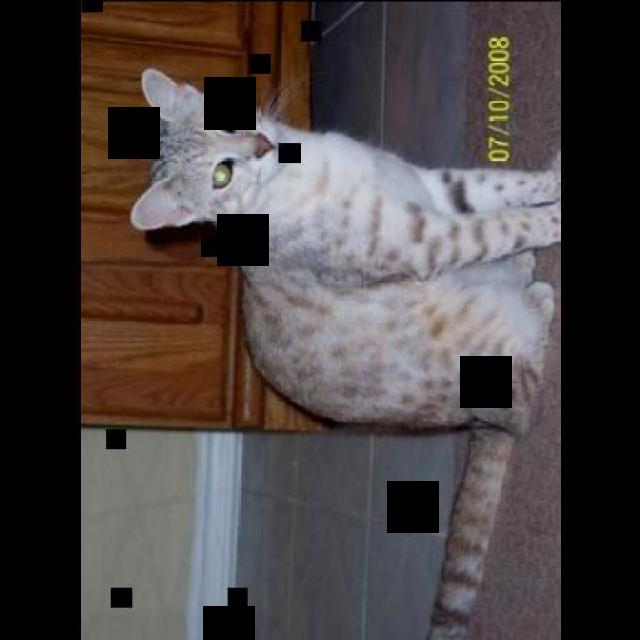unauthorized: (127, 66, 558, 639)
